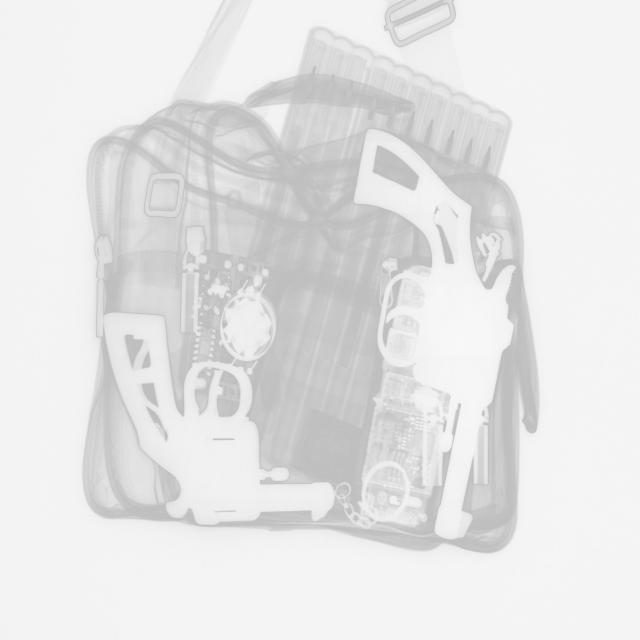pistol: (351, 125, 517, 544), (103, 312, 337, 527)
